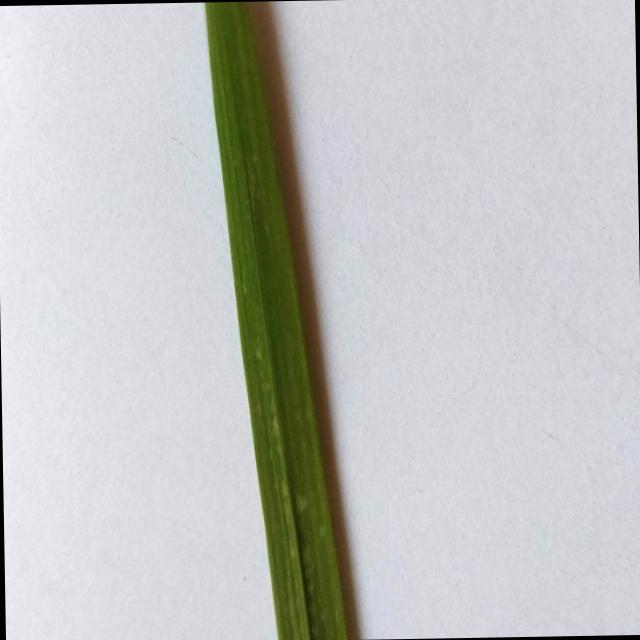Rice_Healthy: (205, 1, 346, 640)
